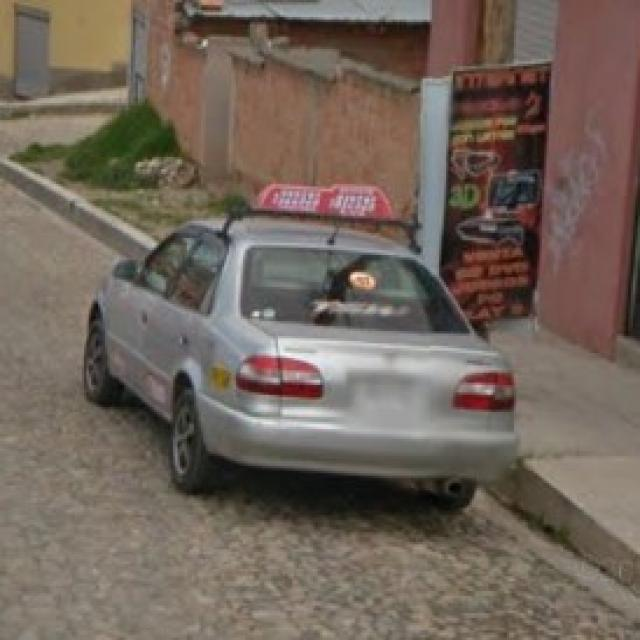cars: (87, 182, 520, 505)
